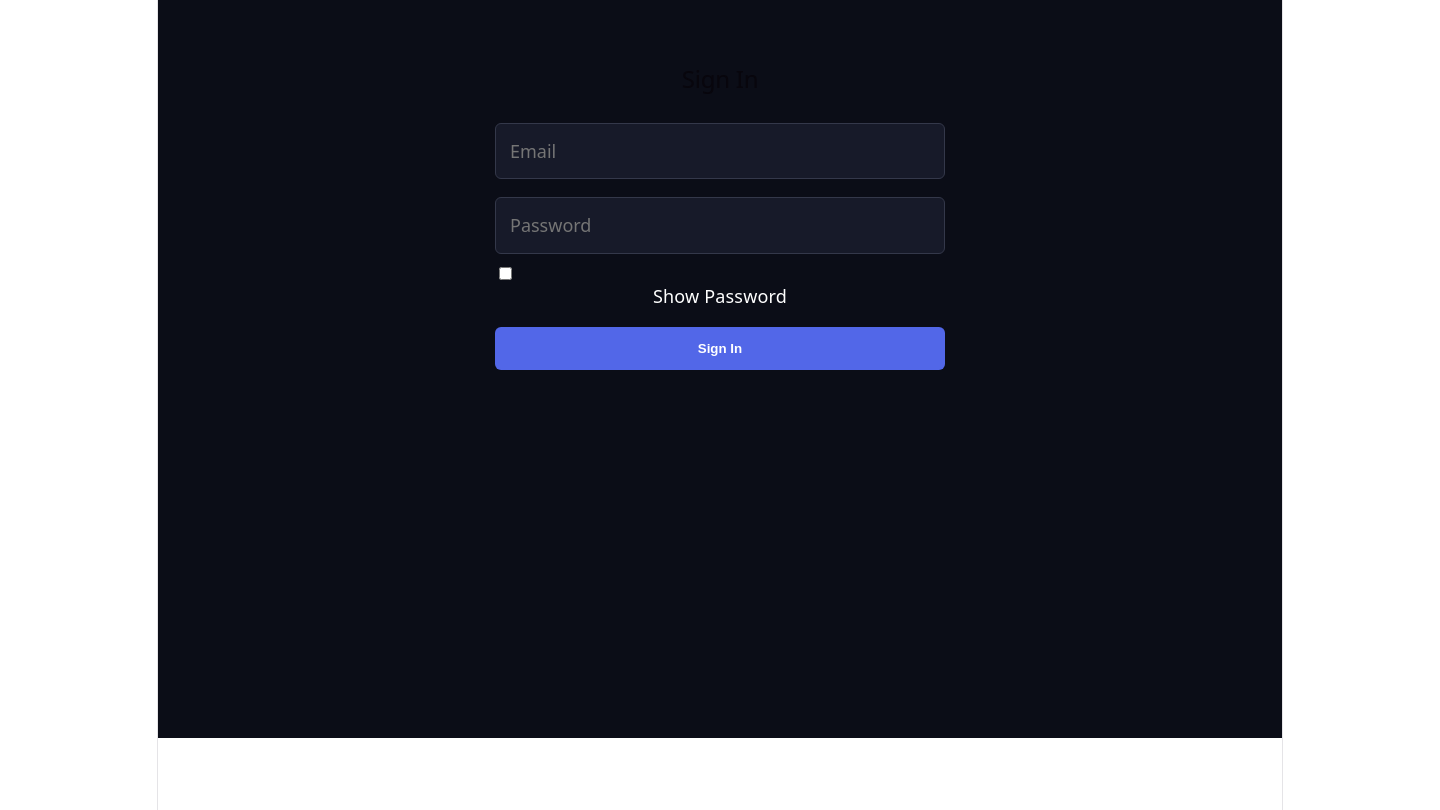
Scenario: SignIn Component › displays an error message when login fails
This screenshot has width=1440, height=810.
Type "wrong@example.com" into the field with placeholder "Email" at (720, 151), box [495,123,945,179]
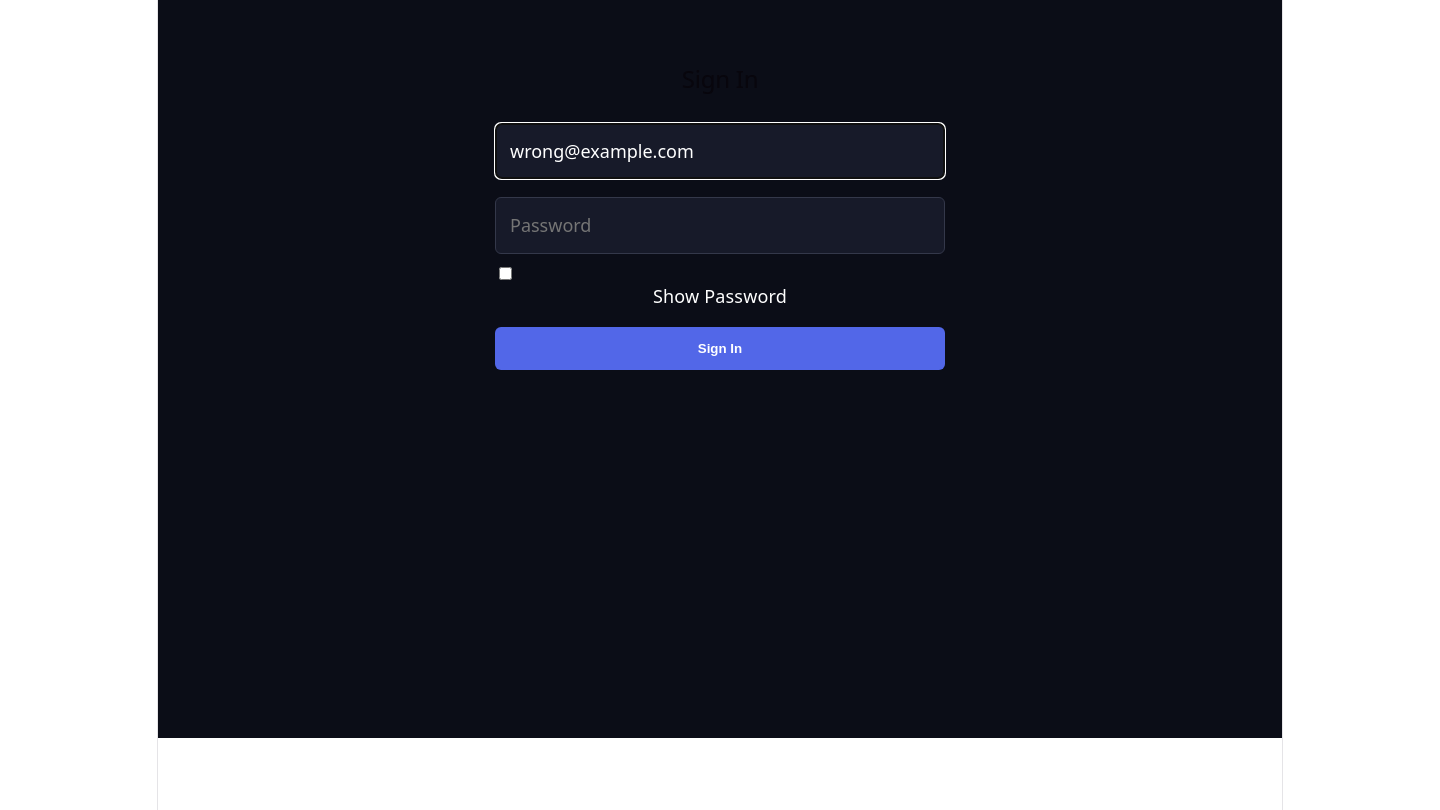
Type "WrongPassword123!" into the password field with placeholder "Password" at (720, 225), box [495,197,945,254]
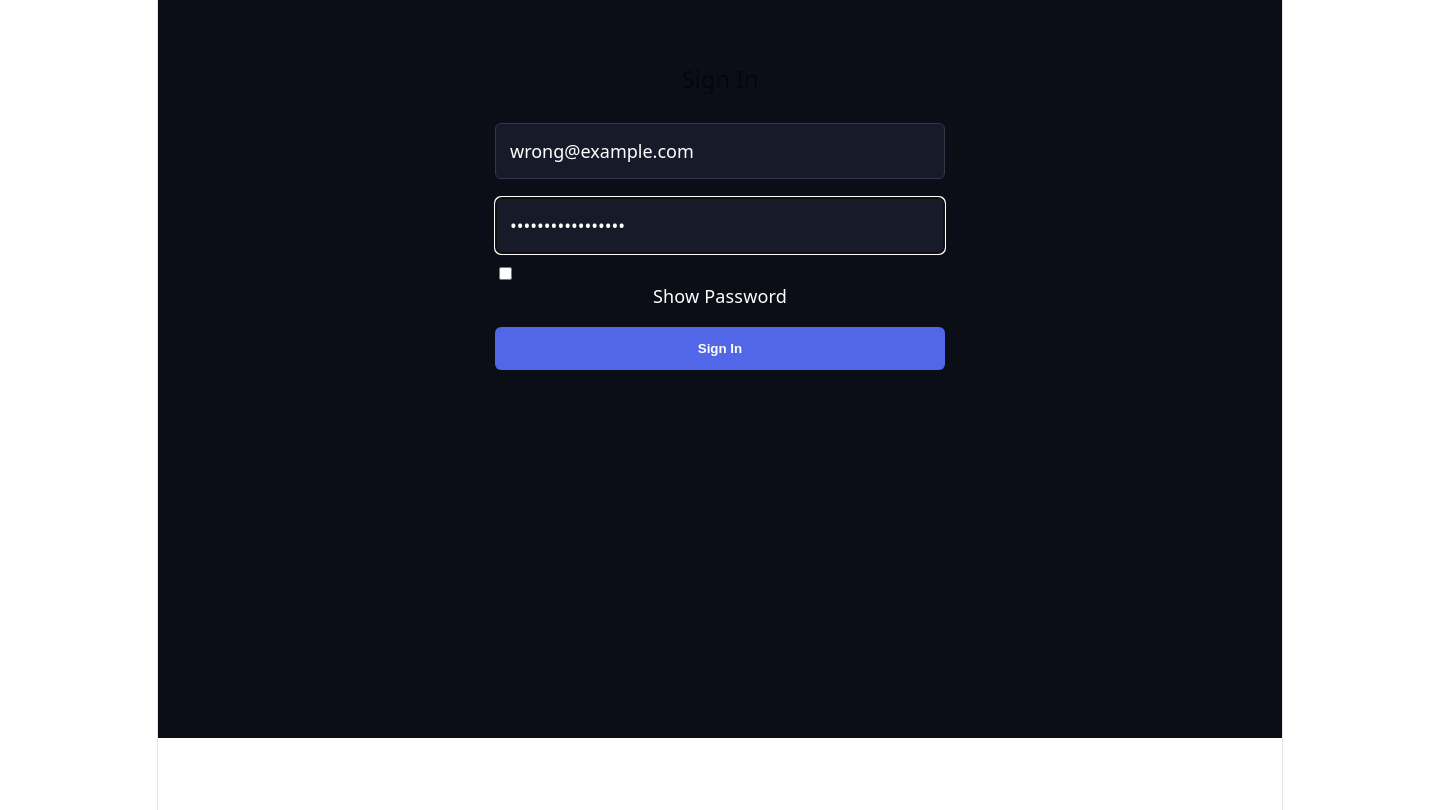
Click the button "Sign In" at (720, 348), box [495,327,945,370]
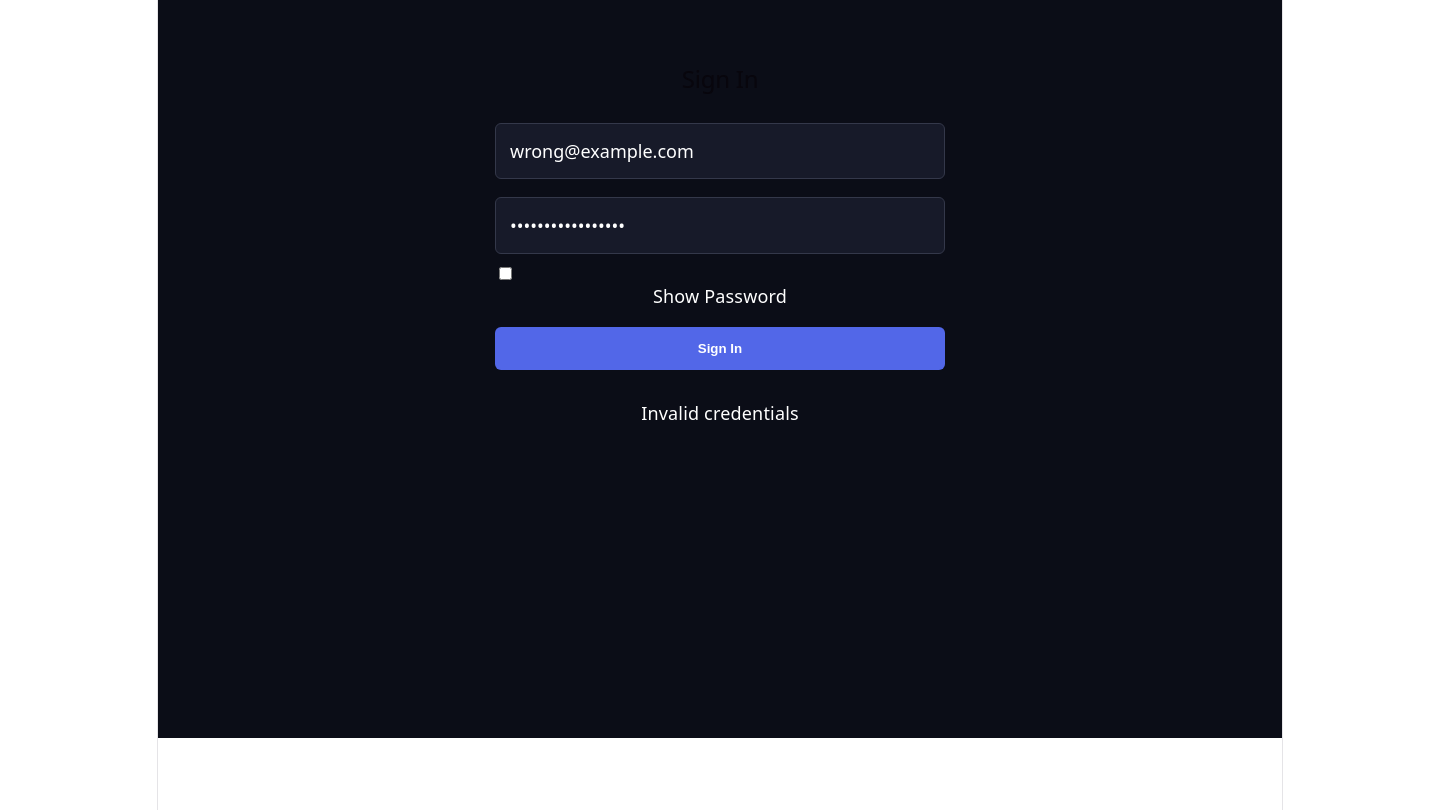
Now the message reads "Invalid credentials", box [641,401,799,425]
